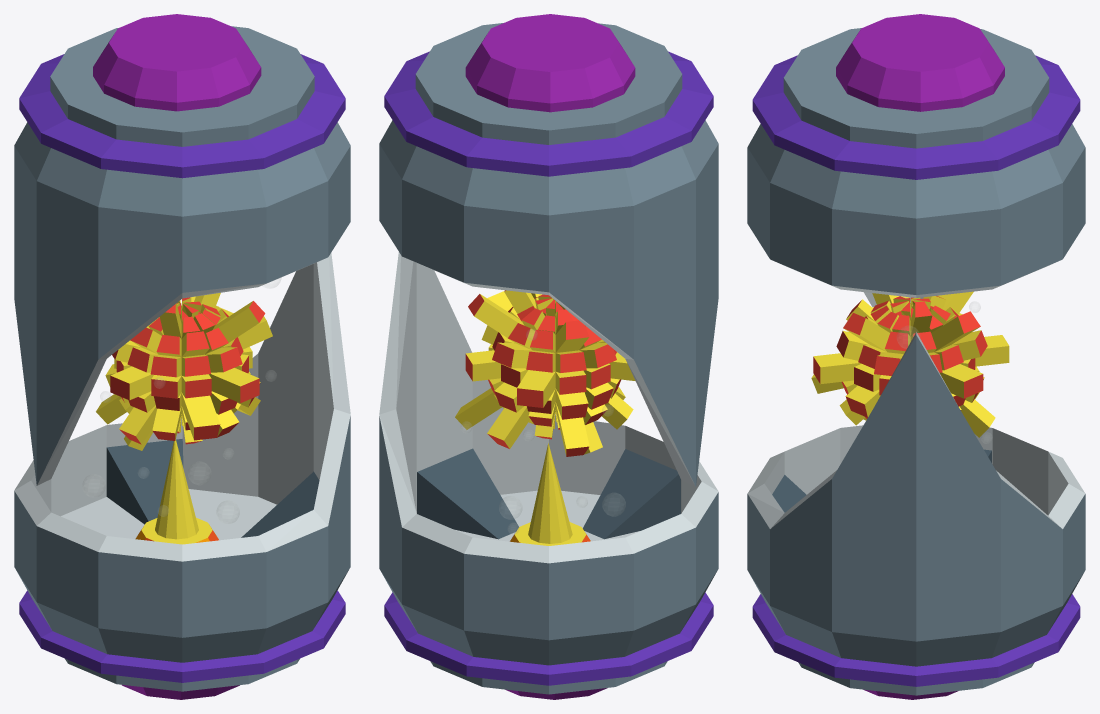
The model's file is nucleo.glb.
3 views of the same model, side by side, from view 1: azimuth 30°, elevation 25°; view 2: azimuth 150°, elevation 25°; view 3: azimuth 270°, elevation 25° (orthographic).
Parts seen in each view (by area): view 1: group2116247409, group729833253, group316010335, group1514521752, group661111561, group1706763184; view 2: group2116247409, group729833253, group316010335, group1514521752, group661111561, group1706763184; view 3: group729833253, group2116247409, group316010335, group1514521752.
Part boxes in pixels (box(x1,y1,x2,y2)): group2116247409: box(14, 14, 350, 485); group729833253: box(14, 253, 350, 699); group316010335: box(96, 293, 272, 450); group1514521752: box(106, 439, 319, 537); group661111561: box(155, 439, 198, 539); group1706763184: box(135, 517, 218, 544); group2116247409: box(379, 14, 718, 486); group729833253: box(379, 252, 718, 699); group316010335: box(455, 290, 635, 456); group1514521752: box(417, 448, 680, 539); group661111561: box(528, 443, 572, 543); group1706763184: box(510, 522, 590, 545); group729833253: box(747, 332, 1085, 699); group2116247409: box(747, 14, 1085, 307); group316010335: box(811, 291, 1009, 437); group1514521752: box(772, 449, 991, 512).
Bounding box in the file's own units: 0.84 × 1.72 × 0.84.
